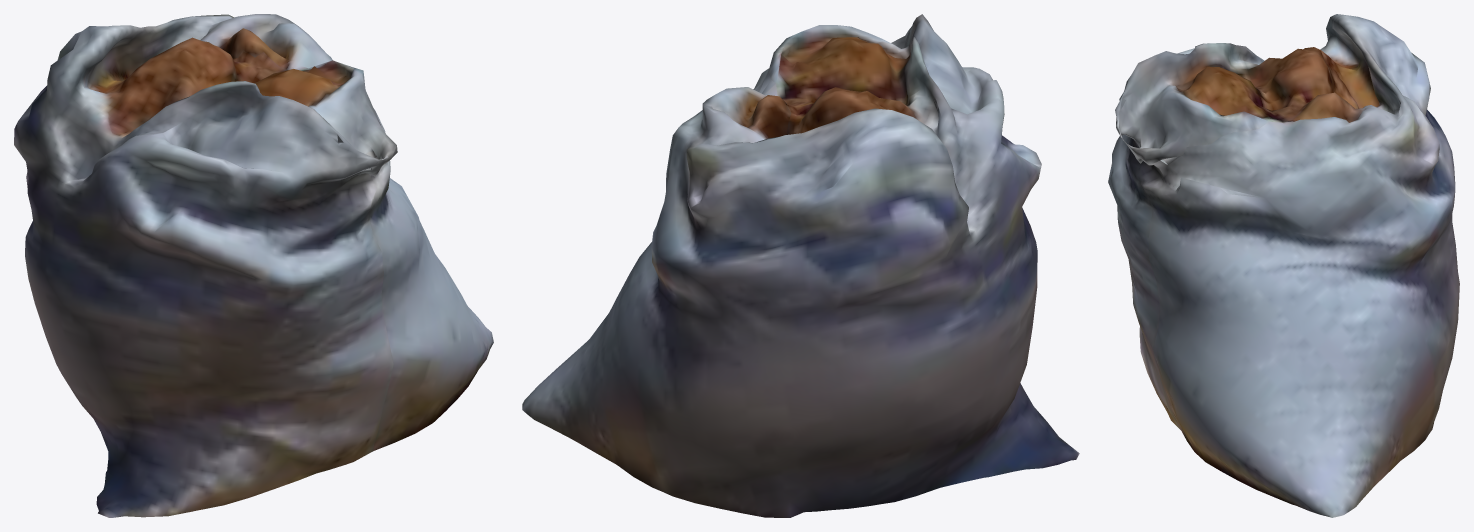
The model's file is obj_photogrammetry_cloth_sack_wi.glb.
3 renders of one model, left to right at view 1: azimuth 30°, elevation 25°; view 2: azimuth 150°, elevation 25°; view 3: azimuth 270°, elevation 25°, orthographic. The views are drawn at different scales.
Visible parts, largest first — view 1: ZBrush_defualt_group_defaultMat_0; view 2: ZBrush_defualt_group_defaultMat_0; view 3: ZBrush_defualt_group_defaultMat_0.
Part boxes in pixels (box(x1,y1,x2,y2)): ZBrush_defualt_group_defaultMat_0: box(14, 14, 493, 517); ZBrush_defualt_group_defaultMat_0: box(522, 14, 1079, 517); ZBrush_defualt_group_defaultMat_0: box(1108, 14, 1459, 517).
Bounding box in the file's own units: 0.7591 × 0.6 × 0.5596.
1 material, 1 textured.
